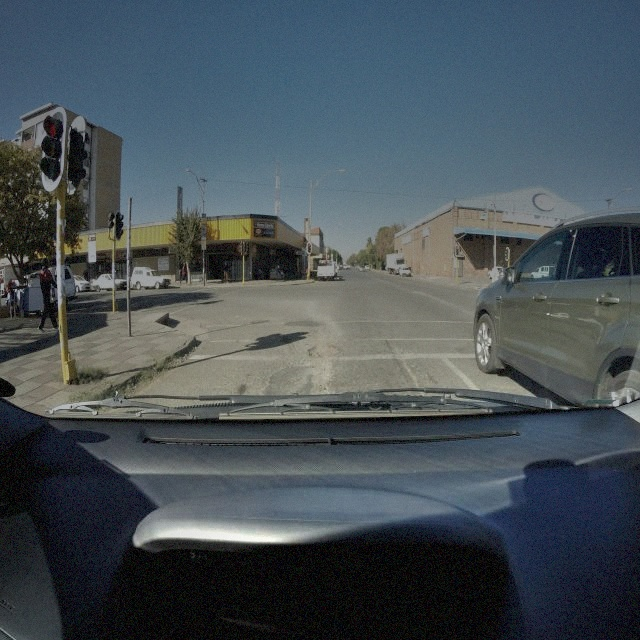pothole: (307, 341, 340, 359)
